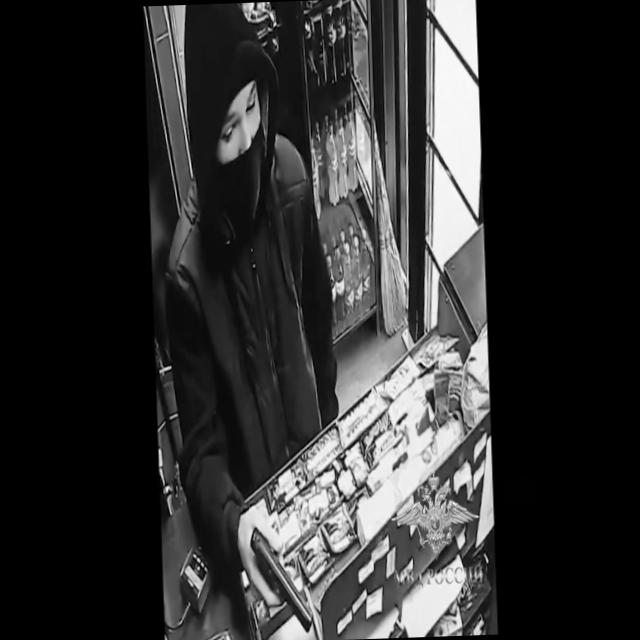gun: (242, 507, 316, 628)
person with a gun: (163, 21, 343, 636)
